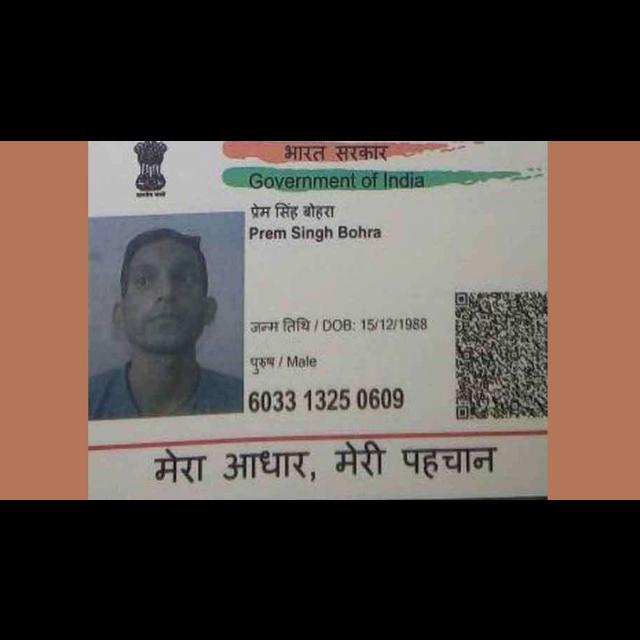aadhaar: (84, 140, 556, 500)
